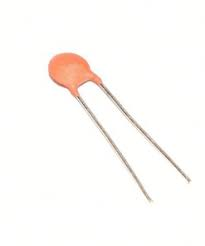ceramic capacitor: (19, 32, 109, 123)
